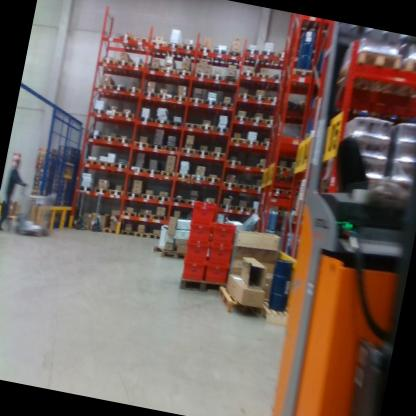forklift: (253, 24, 416, 416)
pallet: (254, 285, 303, 342), (216, 279, 268, 324), (174, 267, 223, 300), (76, 181, 143, 202), (284, 61, 313, 95), (114, 25, 140, 59), (130, 28, 155, 63), (270, 45, 294, 75), (160, 33, 184, 62), (269, 64, 292, 94), (256, 42, 277, 74), (125, 57, 147, 83), (145, 35, 168, 59), (98, 55, 120, 80), (158, 245, 186, 264), (224, 48, 244, 73), (142, 60, 162, 85), (236, 65, 258, 87), (87, 105, 109, 127), (158, 64, 179, 87), (195, 42, 215, 64), (252, 67, 270, 91), (210, 46, 228, 70), (111, 157, 132, 177), (179, 36, 200, 56), (140, 86, 159, 108), (94, 79, 115, 98), (173, 66, 192, 87), (240, 49, 258, 70), (125, 83, 143, 104), (112, 80, 128, 103), (156, 89, 175, 108), (128, 161, 146, 180), (98, 129, 117, 147), (165, 116, 184, 134), (172, 89, 187, 111), (116, 109, 134, 127), (143, 164, 160, 183), (233, 110, 250, 129), (115, 55, 129, 78), (169, 191, 186, 209), (96, 157, 114, 174), (118, 207, 137, 223), (216, 96, 235, 112), (158, 167, 176, 183), (269, 181, 287, 197), (192, 68, 210, 84), (138, 113, 156, 129), (221, 74, 241, 88), (102, 106, 118, 123), (187, 170, 205, 185), (212, 123, 230, 138), (83, 129, 102, 143), (204, 173, 220, 189), (83, 154, 99, 170), (207, 71, 223, 87), (93, 184, 110, 199), (174, 168, 189, 185), (147, 138, 164, 153), (266, 93, 283, 108), (161, 141, 179, 155), (235, 178, 253, 192), (226, 132, 244, 146), (141, 190, 157, 205), (210, 149, 227, 163), (251, 92, 268, 106), (253, 160, 271, 173), (155, 193, 171, 207), (115, 134, 131, 148), (218, 199, 234, 213), (184, 118, 200, 132), (199, 120, 215, 134), (150, 210, 167, 223), (236, 89, 253, 102), (179, 144, 197, 156), (194, 147, 212, 159), (221, 178, 239, 190), (250, 184, 268, 196), (241, 135, 259, 147), (223, 157, 242, 168), (189, 94, 205, 107), (248, 113, 265, 125), (101, 224, 116, 237), (109, 187, 124, 200), (132, 229, 148, 241), (154, 116, 167, 130), (134, 138, 149, 150), (284, 188, 299, 200), (258, 138, 273, 150), (203, 97, 218, 109), (118, 227, 134, 238), (136, 210, 152, 221), (249, 204, 262, 217), (274, 162, 290, 172), (263, 115, 276, 127), (237, 204, 250, 214), (185, 194, 196, 204), (148, 230, 161, 238)
pallet_truck: (9, 180, 54, 238), (70, 184, 94, 236), (88, 186, 114, 227)
small_load_carrier: (200, 255, 233, 287), (189, 197, 219, 228), (205, 238, 237, 262), (208, 217, 236, 243), (187, 217, 213, 244), (181, 239, 209, 263), (178, 258, 208, 280)
stillage: (14, 185, 52, 236)
